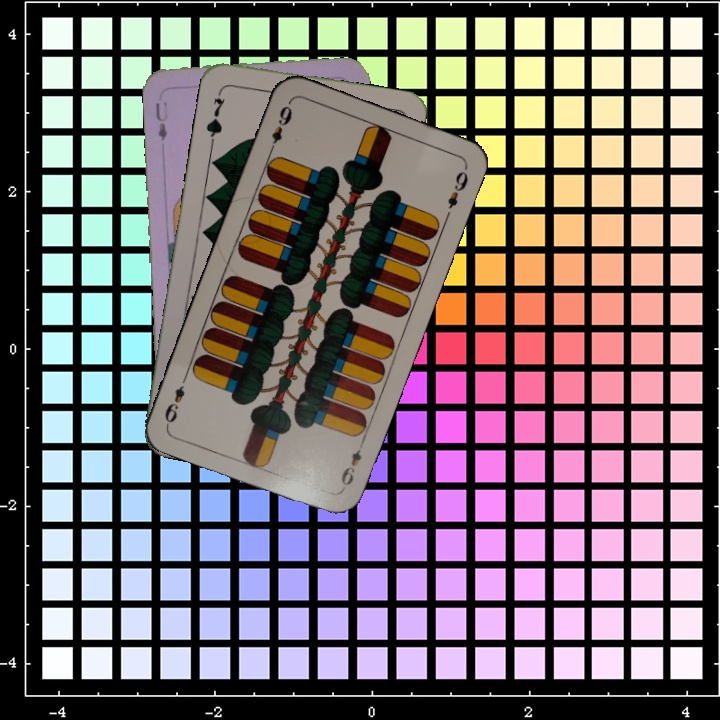E9: (265, 98, 295, 155), (337, 436, 367, 492)
EU: (151, 98, 170, 143)
G7: (202, 86, 228, 145)
